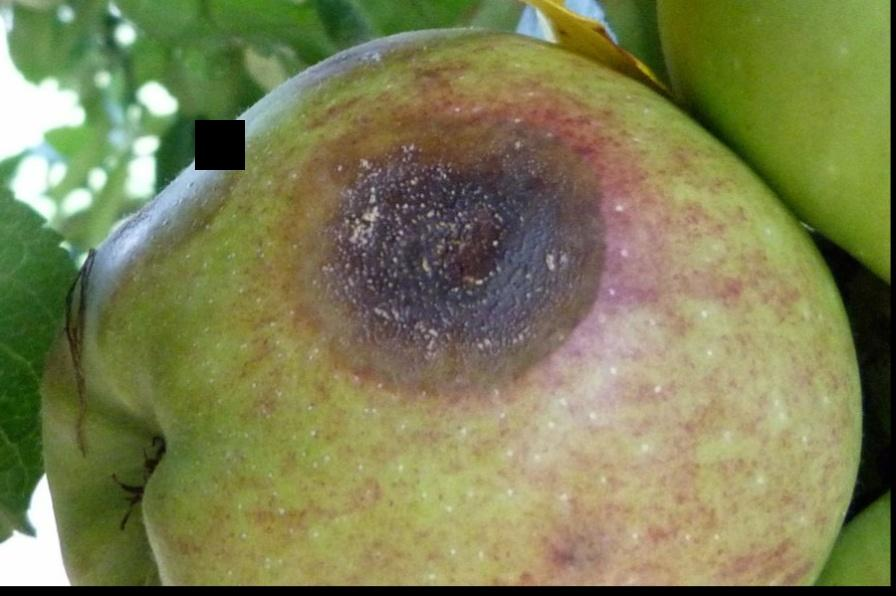rotten apple: (39, 28, 855, 586)
